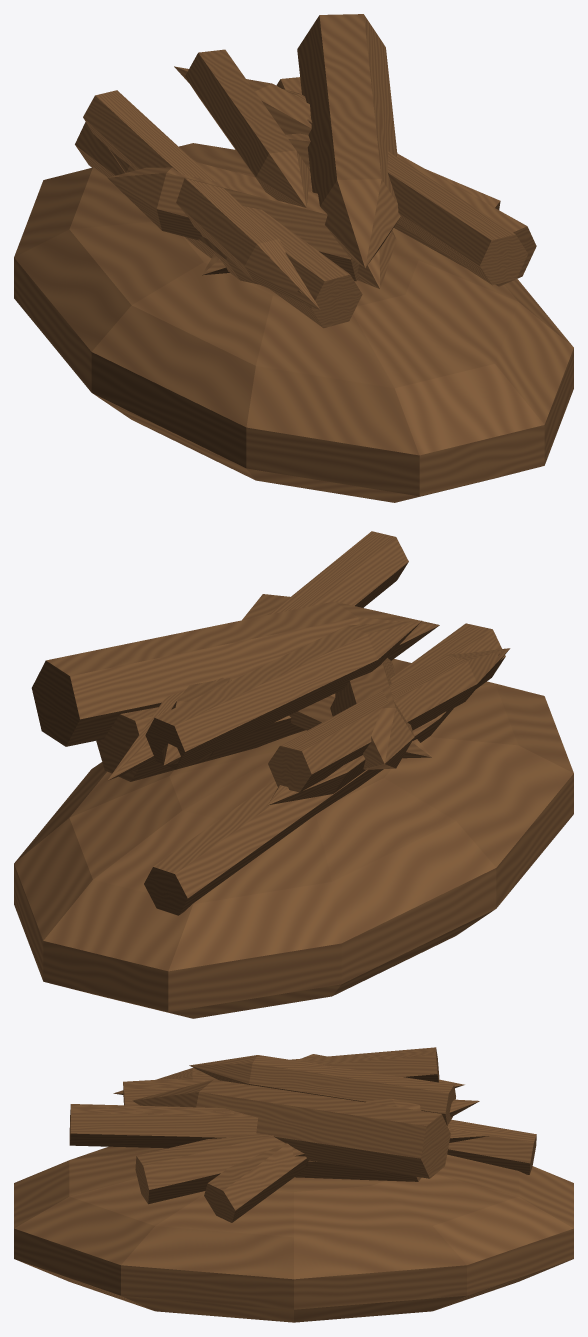
The model's file is BeaverDam.glb.
The picture shows the model from 3 angles, top to bottom: view 1: azimuth 30°, elevation 25°; view 2: azimuth 150°, elevation 25°; view 3: azimuth 270°, elevation 25°; orthographic projection. The views are drawn at different scales.
Parts seen in each view (by area): view 1: BeaverDam; view 2: BeaverDam; view 3: BeaverDam.
Boxes of the visible parts, x1,y1,x2,y2 form: BeaverDam: [14, 14, 573, 502]; BeaverDam: [14, 531, 573, 1018]; BeaverDam: [14, 1047, 573, 1322].
Bounding box in the file's own units: 2.53 × 1.78 × 4.08.
Materials: 1 (1 with a texture image).
